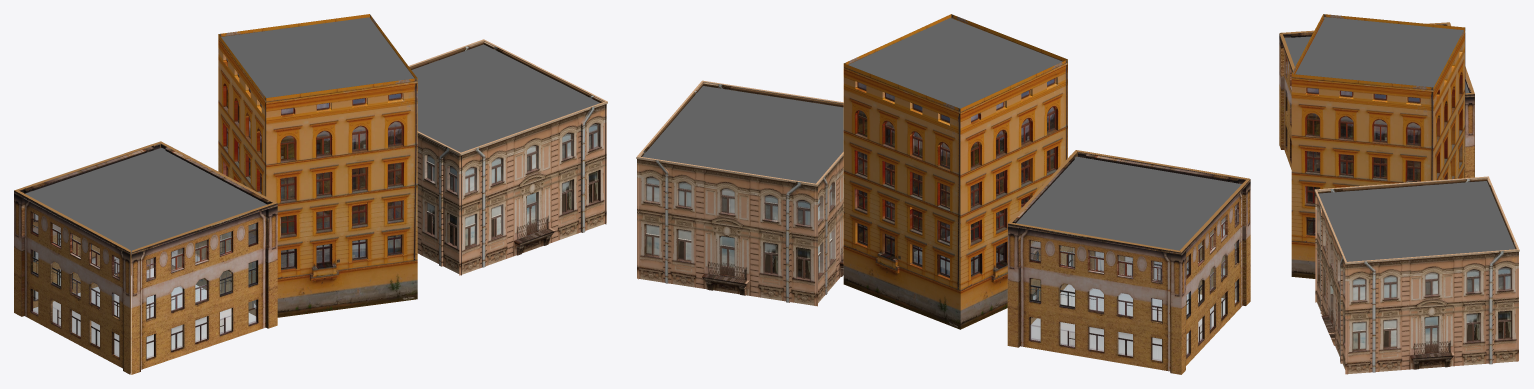
The model's file is low_poly_buildings.glb.
The picture shows the model from 3 angles, left to right: view 1: azimuth 30°, elevation 25°; view 2: azimuth 150°, elevation 25°; view 3: azimuth 270°, elevation 25°; orthographic projection. The views are drawn at different scales.
Parts seen in each view (by area): view 1: 5975121932_5f2061fcb3_b.013_house3.001_0, Plane.012_Material.015_0, house1.007_house1.001_0, 89433864-several-windows-in-a-row-nd-balcony-on-facade-of-u., house1.007_glass.002_0, 5975121932_5f2061fcb3_b.013_house3glass.001_0; view 2: 5975121932_5f2061fcb3_b.013_house3.001_0, Plane.012_Material.015_0, house1.007_house1.001_0, 89433864-several-windows-in-a-row-nd-balcony-on-facade-of-u., house1.007_glass.002_0, 5975121932_5f2061fcb3_b.013_house3glass.001_0; view 3: 89433864-several-windows-in-a-row-nd-balcony-on-facade-of-u., 5975121932_5f2061fcb3_b.013_house3.001_0, Plane.012_Material.015_0, house1.007_house1.001_0, 5975121932_5f2061fcb3_b.013_house3glass.001_0.
Part boxes in pixels (x1,y1,x2,y2): 5975121932_5f2061fcb3_b.013_house3.001_0: (218,14,417,317); Plane.012_Material.015_0: (24,17,599,254); house1.007_house1.001_0: (14,141,277,374); 89433864-several-windows-in-a-row-nd-balcony-on-facade-of-u.: (353,39,607,275); house1.007_glass.002_0: (33,213,256,358); 5975121932_5f2061fcb3_b.013_house3glass.001_0: (227,92,401,267); 5975121932_5f2061fcb3_b.013_house3.001_0: (843,14,1067,329); Plane.012_Material.015_0: (642,18,1241,250); house1.007_house1.001_0: (1007,150,1250,374); 89433864-several-windows-in-a-row-nd-balcony-on-facade-of-u.: (636,80,843,306); house1.007_glass.002_0: (1030,205,1236,361); 5975121932_5f2061fcb3_b.013_house3glass.001_0: (859,107,1053,275); 89433864-several-windows-in-a-row-nd-balcony-on-facade-of-u.: (1314,176,1519,374); 5975121932_5f2061fcb3_b.013_house3.001_0: (1291,14,1465,278); Plane.012_Material.015_0: (1284,17,1516,264); house1.007_house1.001_0: (1279,22,1474,178); 5975121932_5f2061fcb3_b.013_house3glass.001_0: (1307,113,1420,233).
Bounding box in the file's own units: 4.59 × 1.81 × 1.94.
6 materials, 5 textured.
